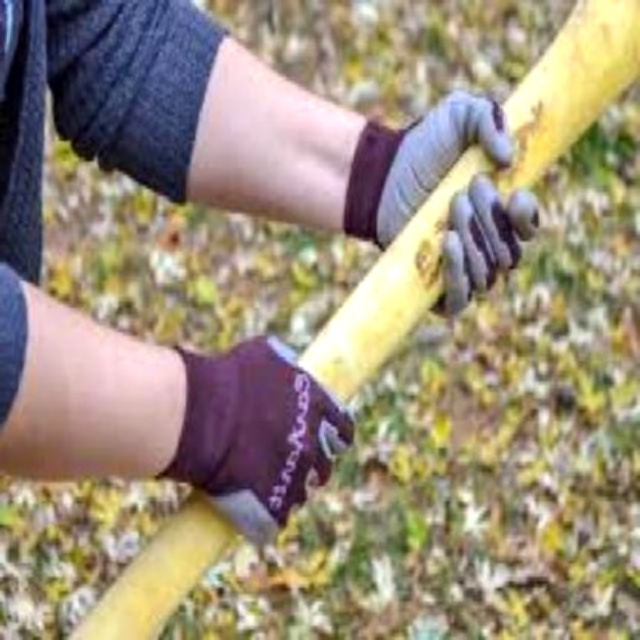gloves: (92, 92, 307, 318), (283, 333, 486, 534)
